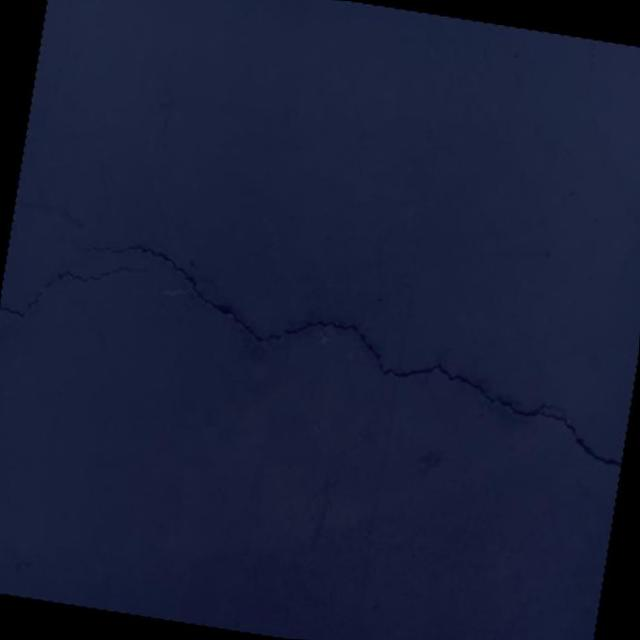crack: (53, 233, 640, 467), (0, 246, 148, 335)
